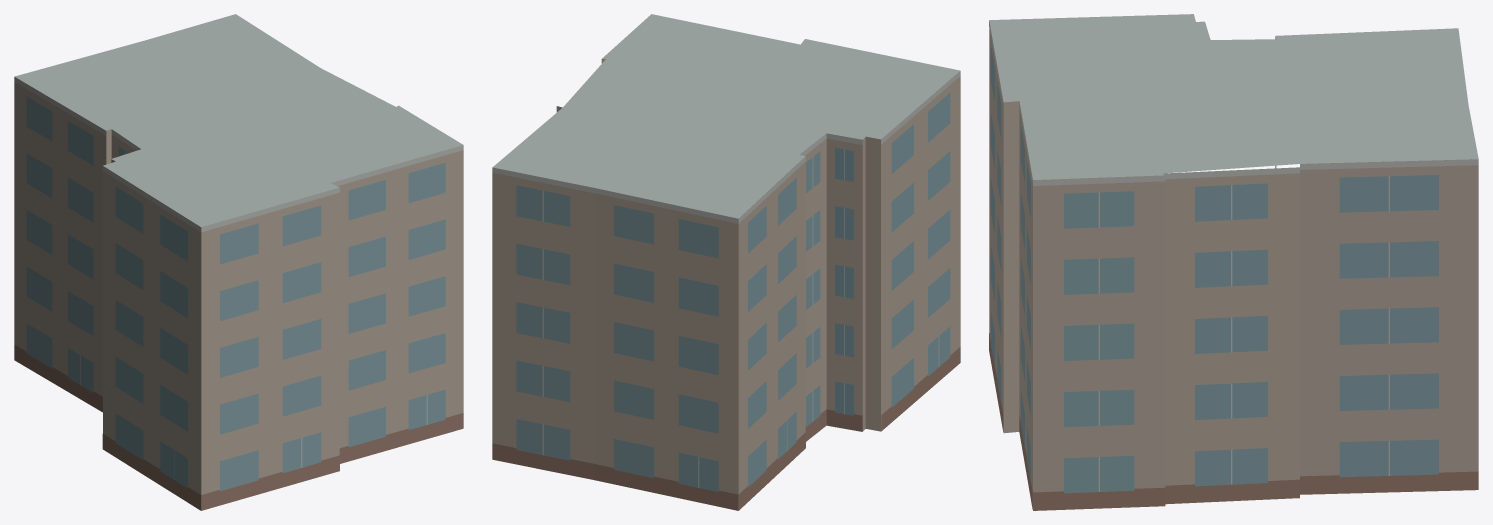
File: survey-upis-32610606.glb
3 views of the same model, side by side, from view 1: azimuth 30°, elevation 25°; view 2: azimuth 150°, elevation 25°; view 3: azimuth 270°, elevation 25° (orthographic). The views are drawn at different scales.
Parts seen in each view (by area): view 1: survey-upis-32610606.tmp; view 2: survey-upis-32610606.tmp; view 3: survey-upis-32610606.tmp.
Part boxes in pixels (x1,y1,x2,y2): survey-upis-32610606.tmp: (14,14,463,510); survey-upis-32610606.tmp: (492,14,960,510); survey-upis-32610606.tmp: (989,14,1478,510).
Size of the model in its own units: 14.55 by 13.5 by 18.12.
